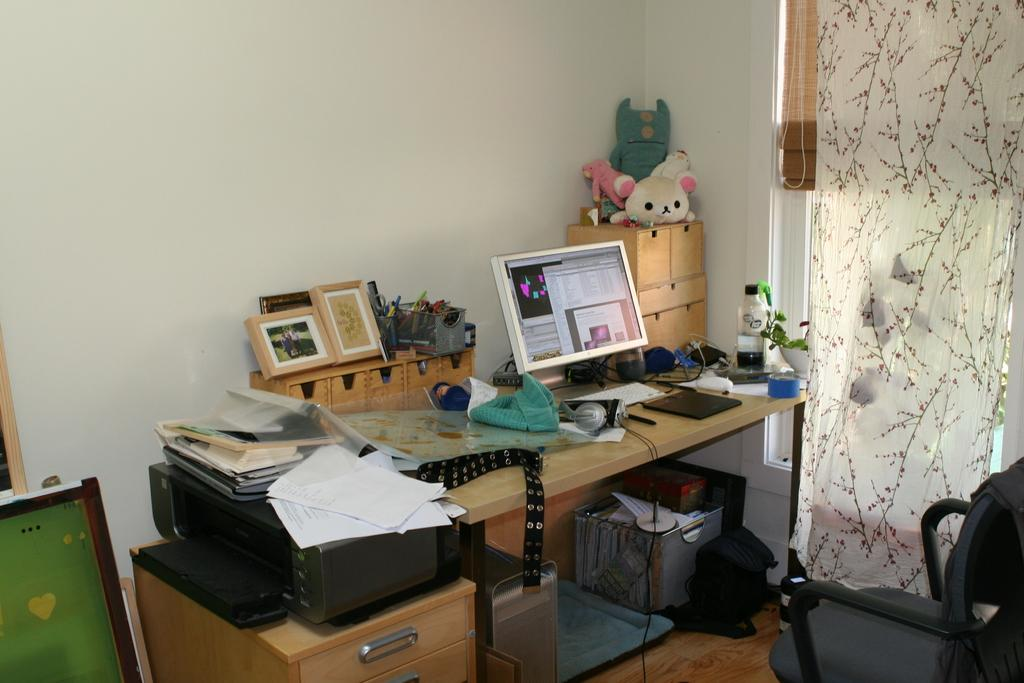Computer-monitor: (0, 477, 143, 682), (490, 243, 659, 413)
